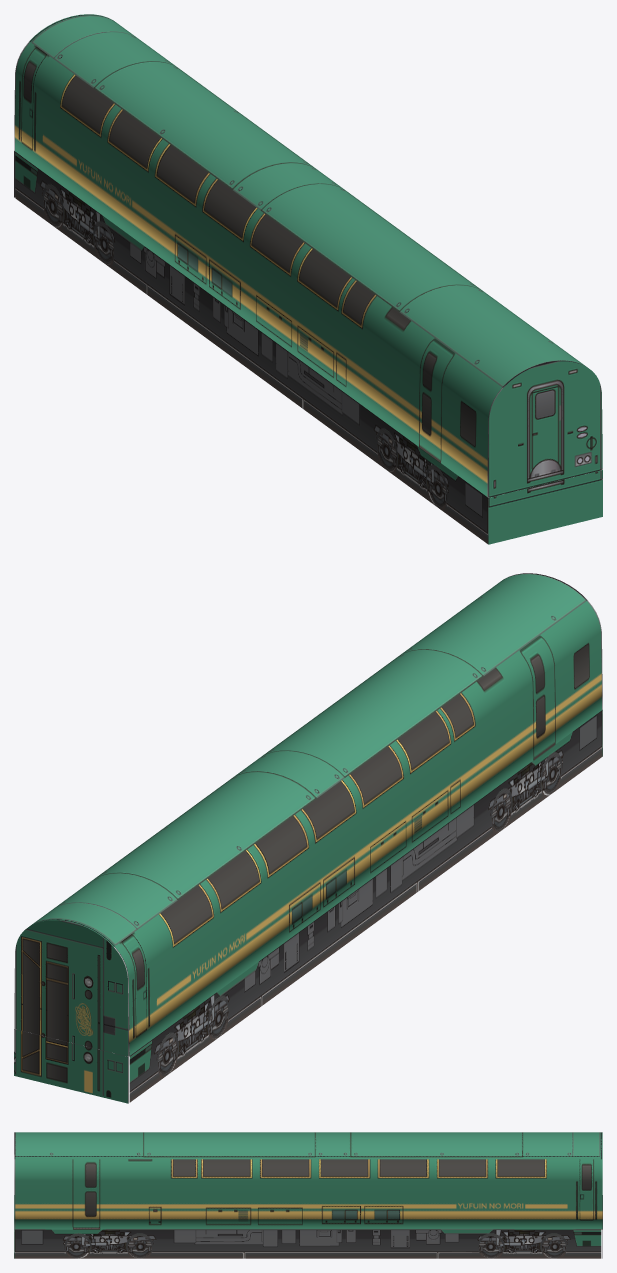
The model's file is car4.glb.
3 renders of one model, top to bottom at view 1: azimuth 30°, elevation 25°; view 2: azimuth 150°, elevation 25°; view 3: azimuth 270°, elevation 25°, orthographic. The views are drawn at different scales.
Visible parts, largest first — view 1: jr-kyusyu-kiha71-car4; view 2: jr-kyusyu-kiha71-car4; view 3: jr-kyusyu-kiha71-car4.
Part boxes in pixels (bbox=[...]): jr-kyusyu-kiha71-car4: bbox=[14, 14, 602, 544]; jr-kyusyu-kiha71-car4: bbox=[14, 573, 602, 1103]; jr-kyusyu-kiha71-car4: bbox=[14, 1132, 602, 1258].
Size of the model in its own units: 2.9 by 4.05 by 20.83.
Materials: 9 (8 with a texture image).
